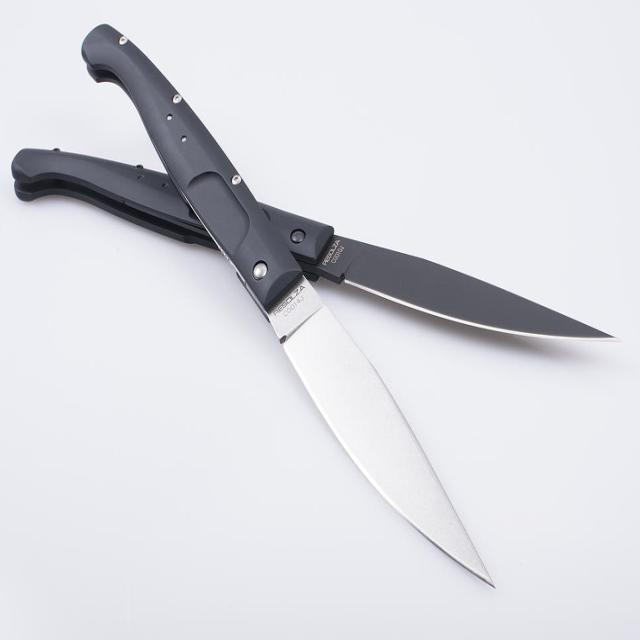knife: (78, 19, 498, 591), (8, 145, 623, 348)
